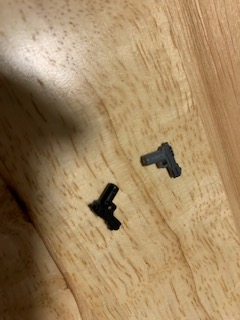pistol: (137, 141, 186, 182), (89, 182, 129, 232)
